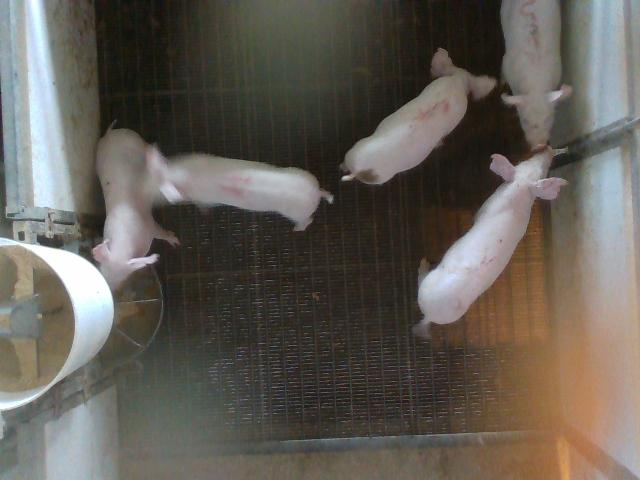pig-3: (500, 0, 571, 148)
pig-4: (146, 145, 332, 230)
pig-5: (340, 48, 496, 184)
